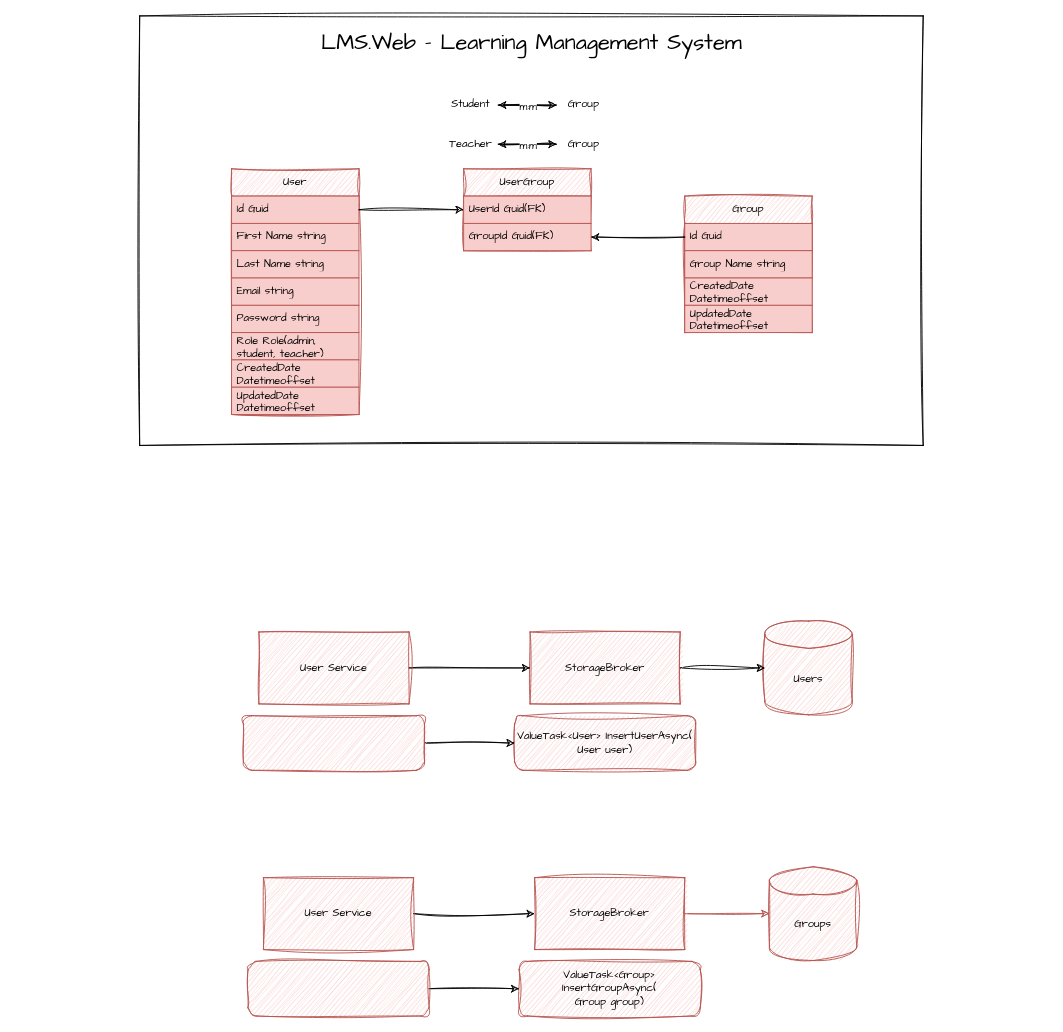
Some shapes in this 1063 by 1032 pixel diagram are drawn without their labels. Here are the shapes that lost their labels. From the top down, the centre of each, then its label:
(334,742): ValueTask<User> AddUserAsync( User user)
(338,988): ValueTask<Group> AddGroupAsync( Group g roup)
